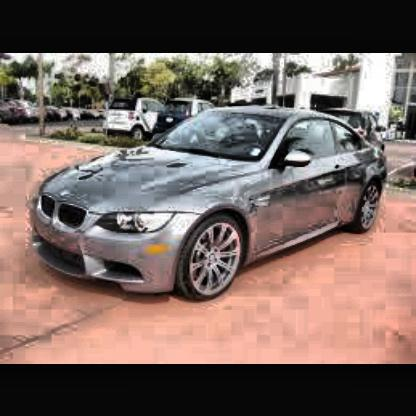BMW M3 Coupe 2012: (31, 108, 387, 307)
